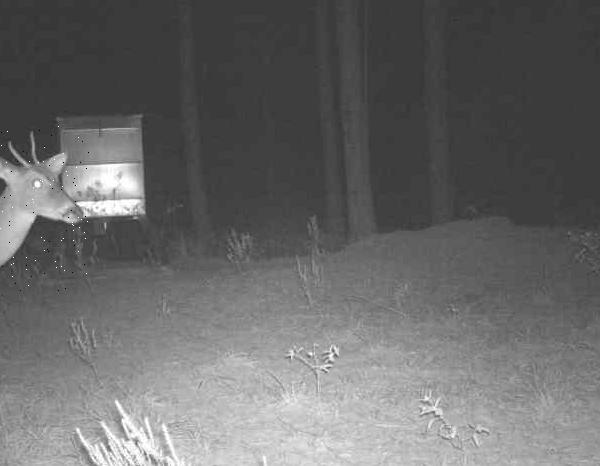Deer: (0, 126, 89, 291)
